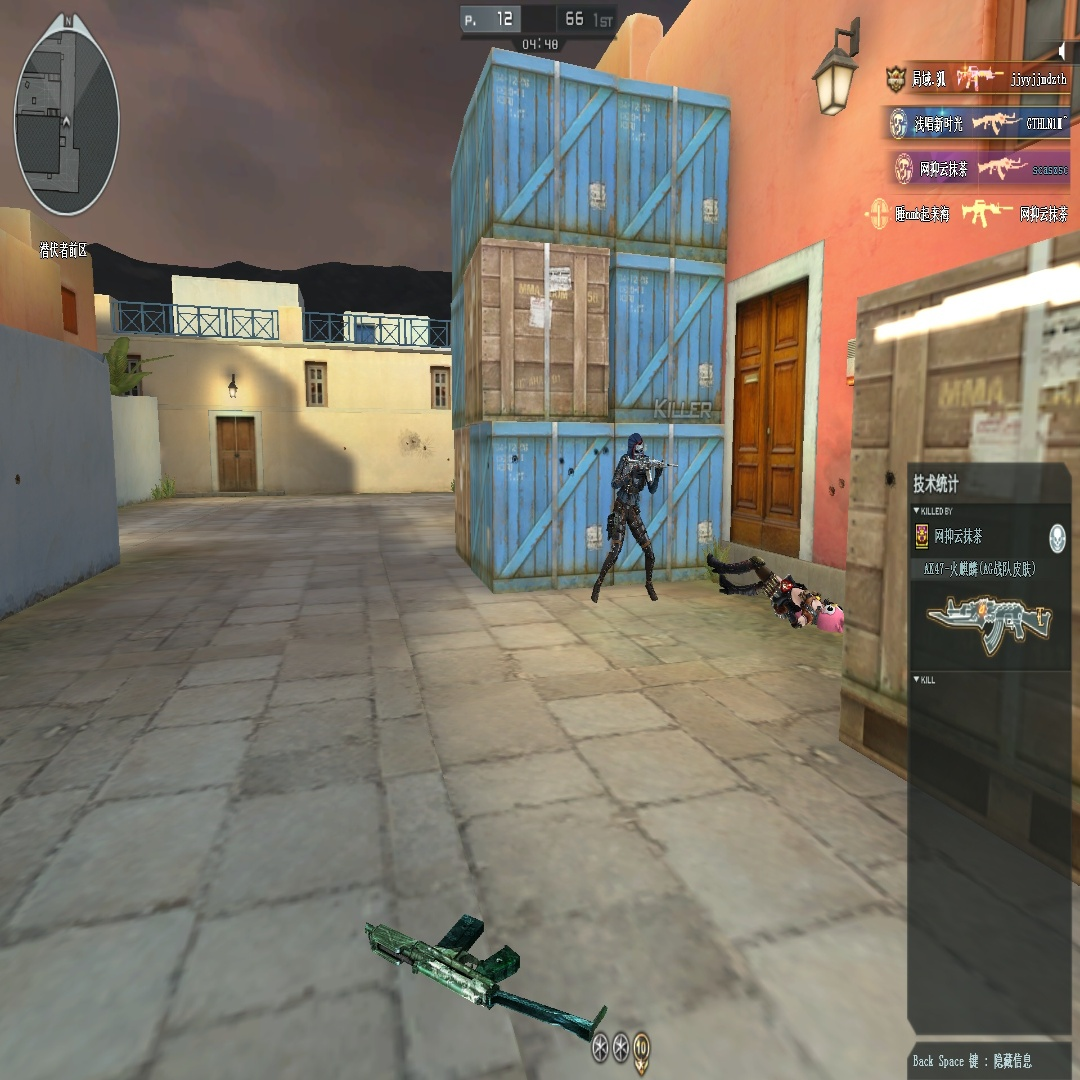head: (628, 432, 643, 461)
p: (590, 430, 664, 603)
